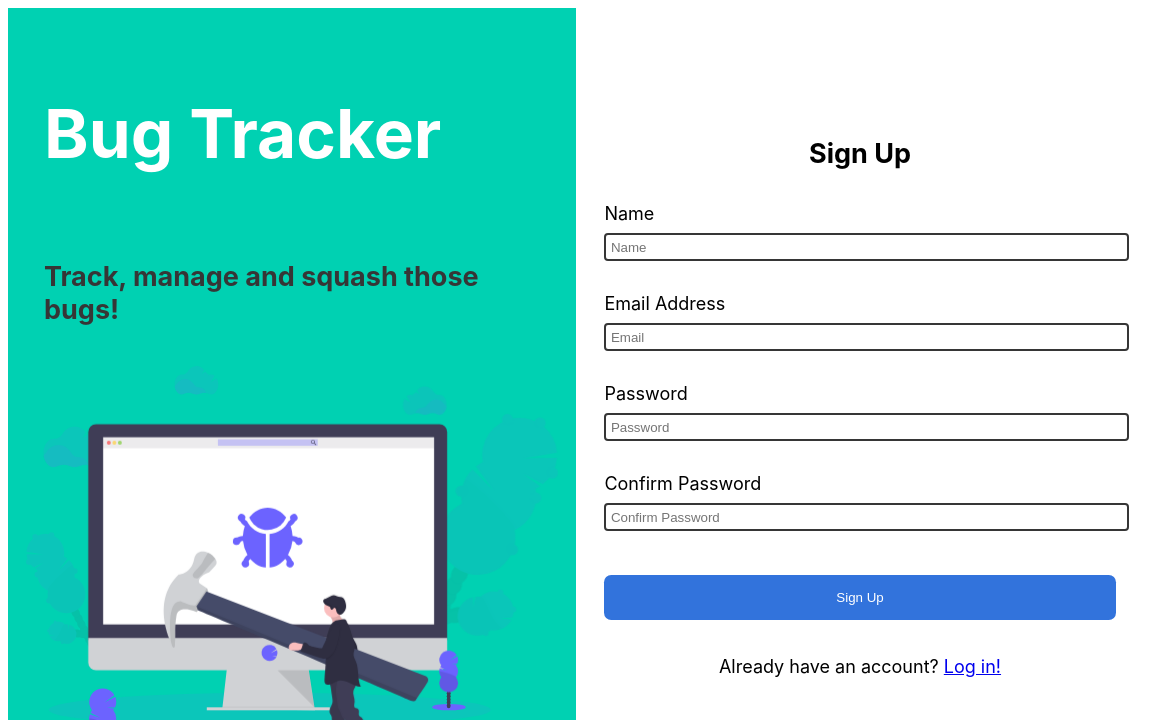
Test: Register Page › form validation - form input requirements
Type "test" into the field with test id "email-input" at [866, 337], box [604, 323, 1128, 351]
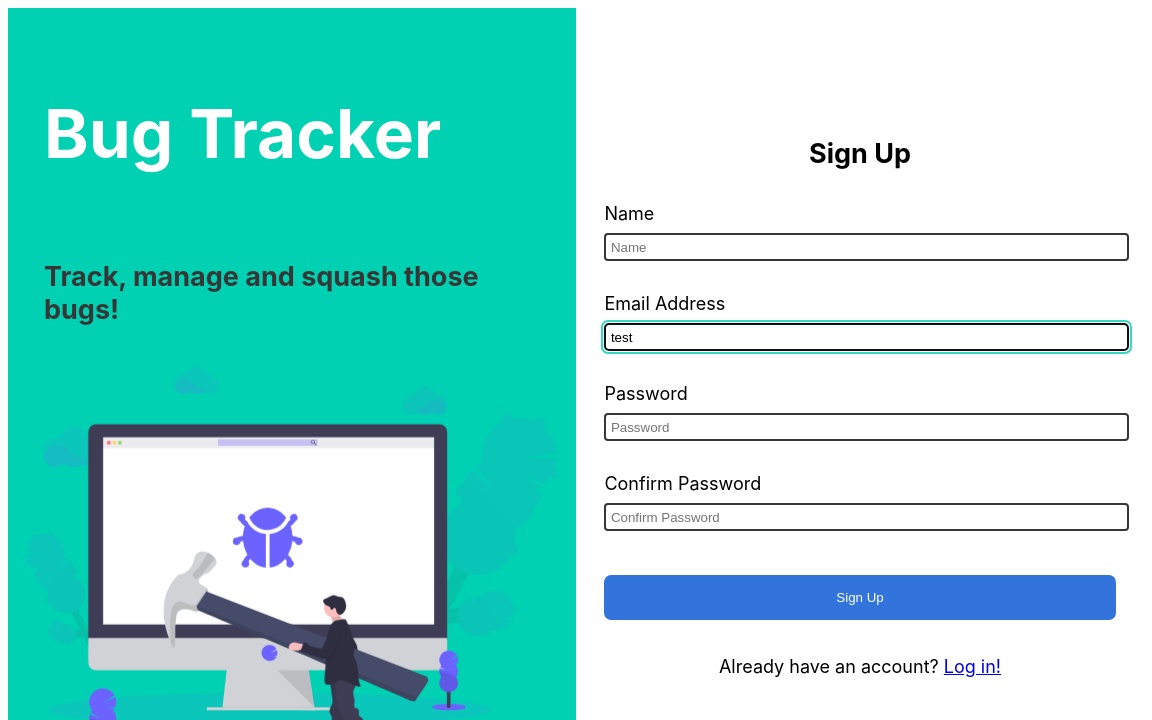
Click the button with test id "submit-register" at [860, 598], box [604, 575, 1115, 620]
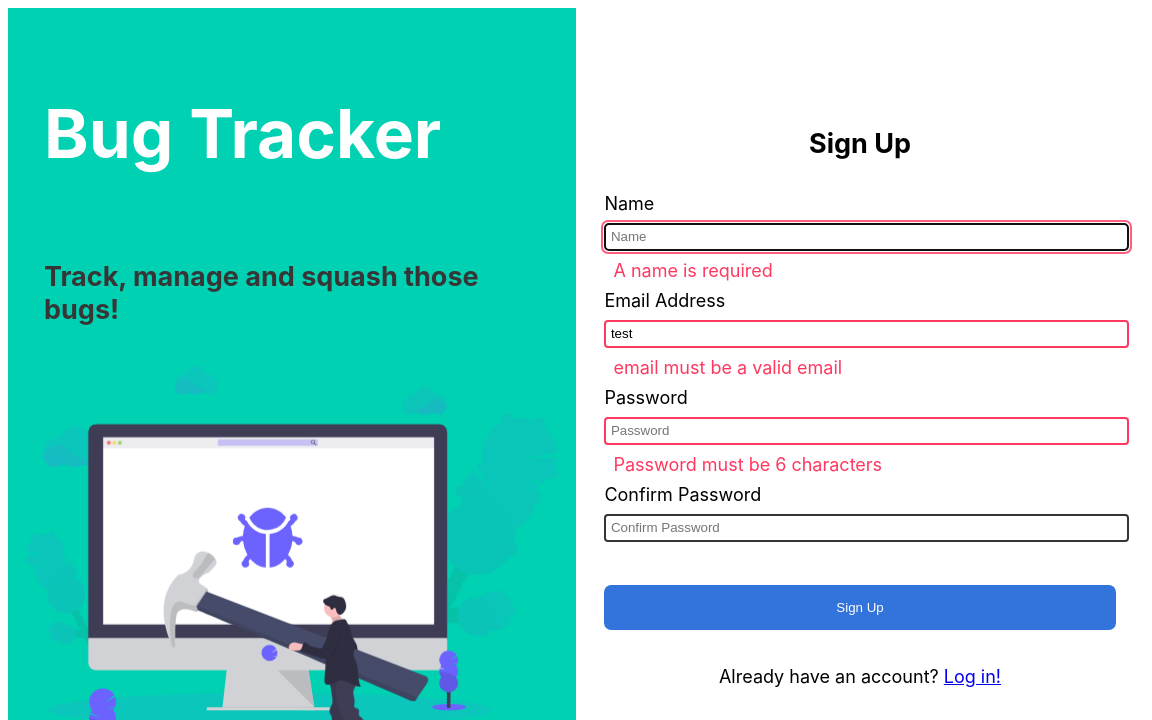
Expected: the text "email must be a valid email" is shown, [613, 357, 842, 378]
Expected: the text "Password must be 6 characters" is shown, [613, 454, 882, 475]
